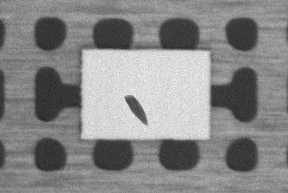DIE_INK: (122, 93, 147, 125)
